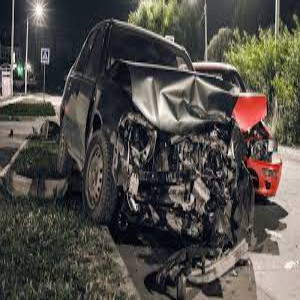bonnet: (112, 57, 235, 127)
bumper: (122, 138, 247, 240)
